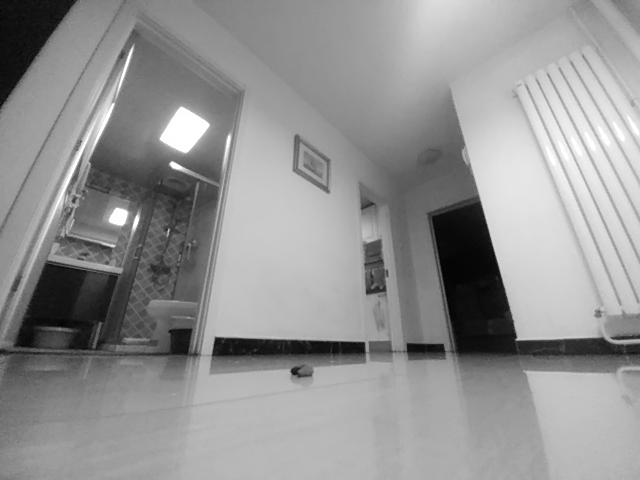pet feces: (289, 362, 316, 380)
